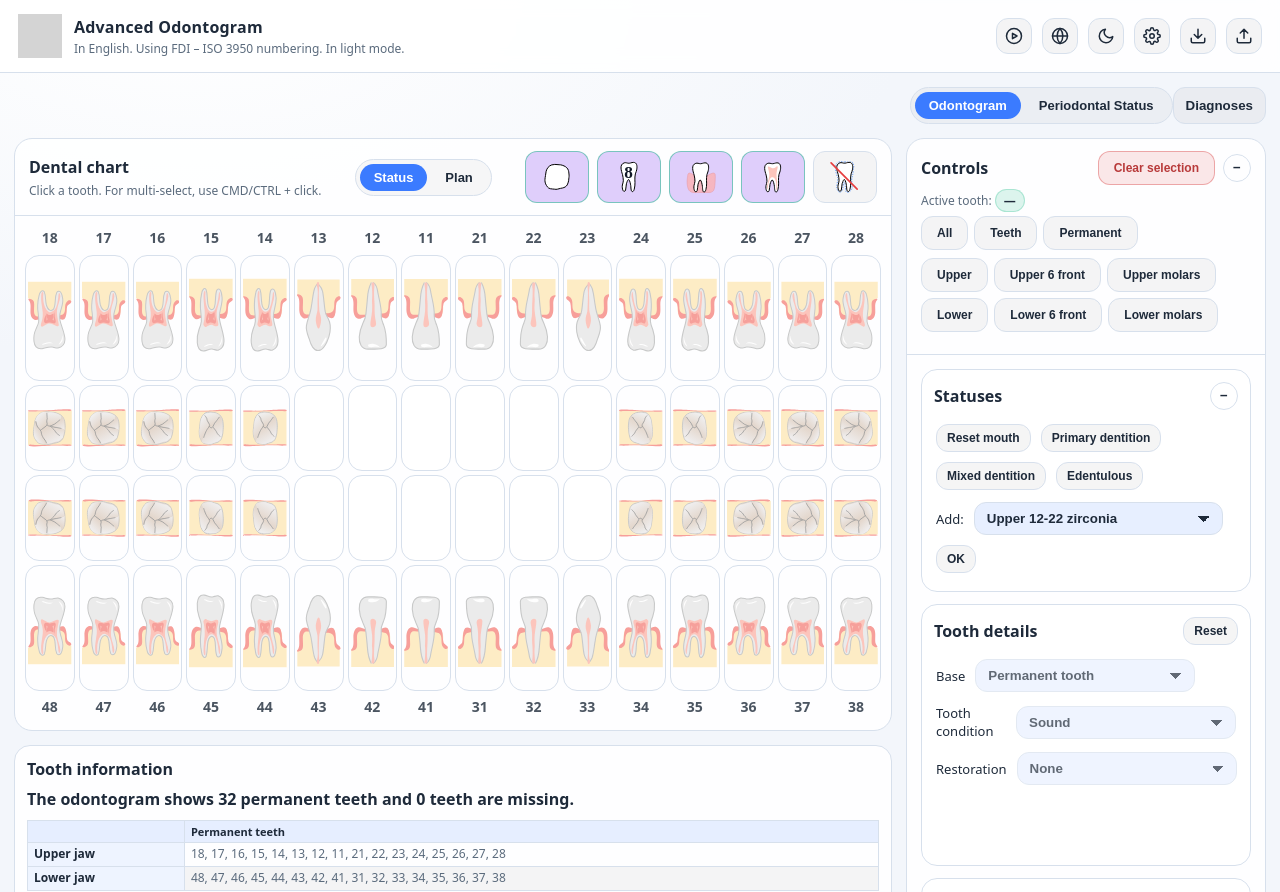
Test: Popups interaction characterization › A. Zoom Popover actions › Note button opens Note Editor when notes are enabled
Press the mouse on the option named "11": point(426, 318) top-left (401, 255), bottom-right (451, 381)
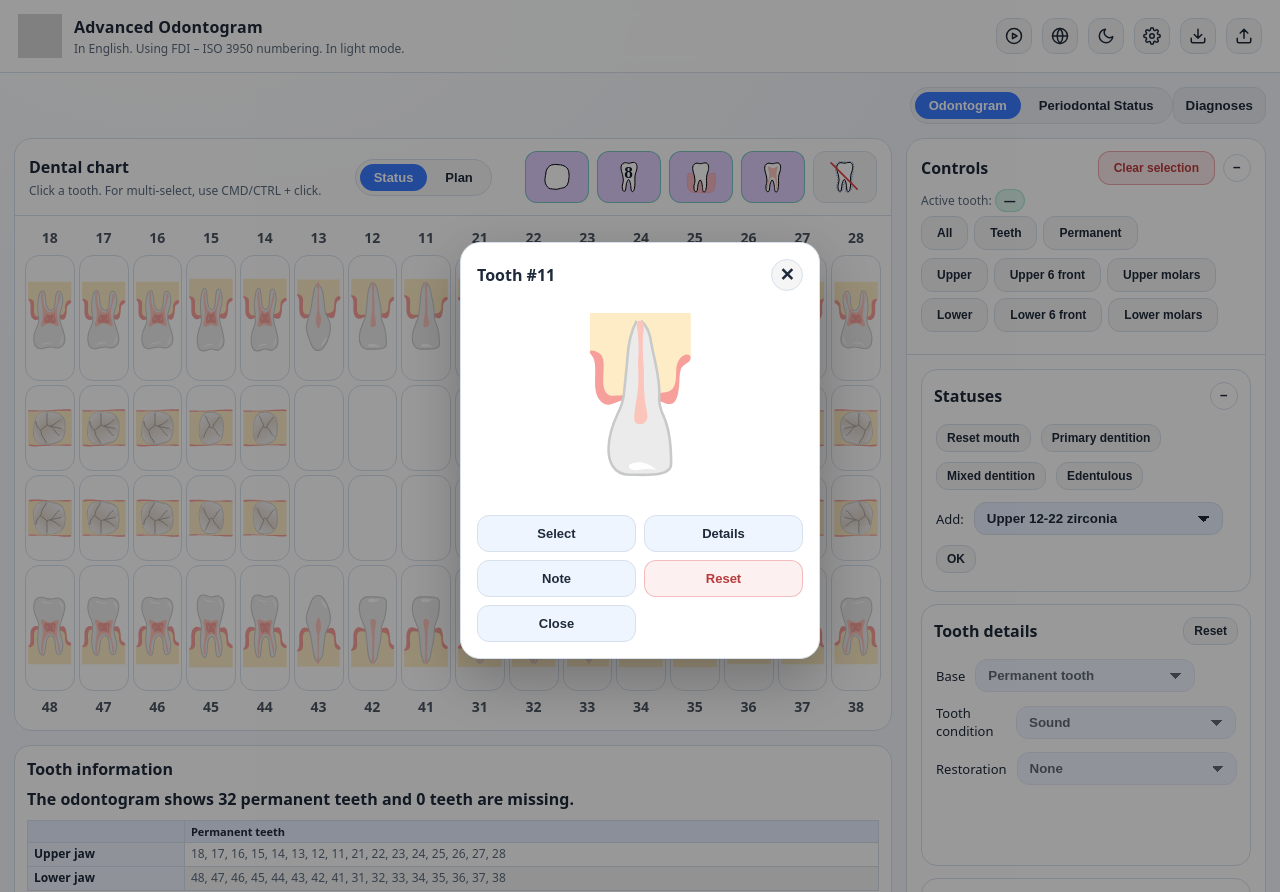
expect the button with class "odon-zoom-btn" showing "Note" is shown: met
Click the button with class "odon-zoom-btn" showing "Note": point(556, 578) top-left (477, 560), bottom-right (636, 596)
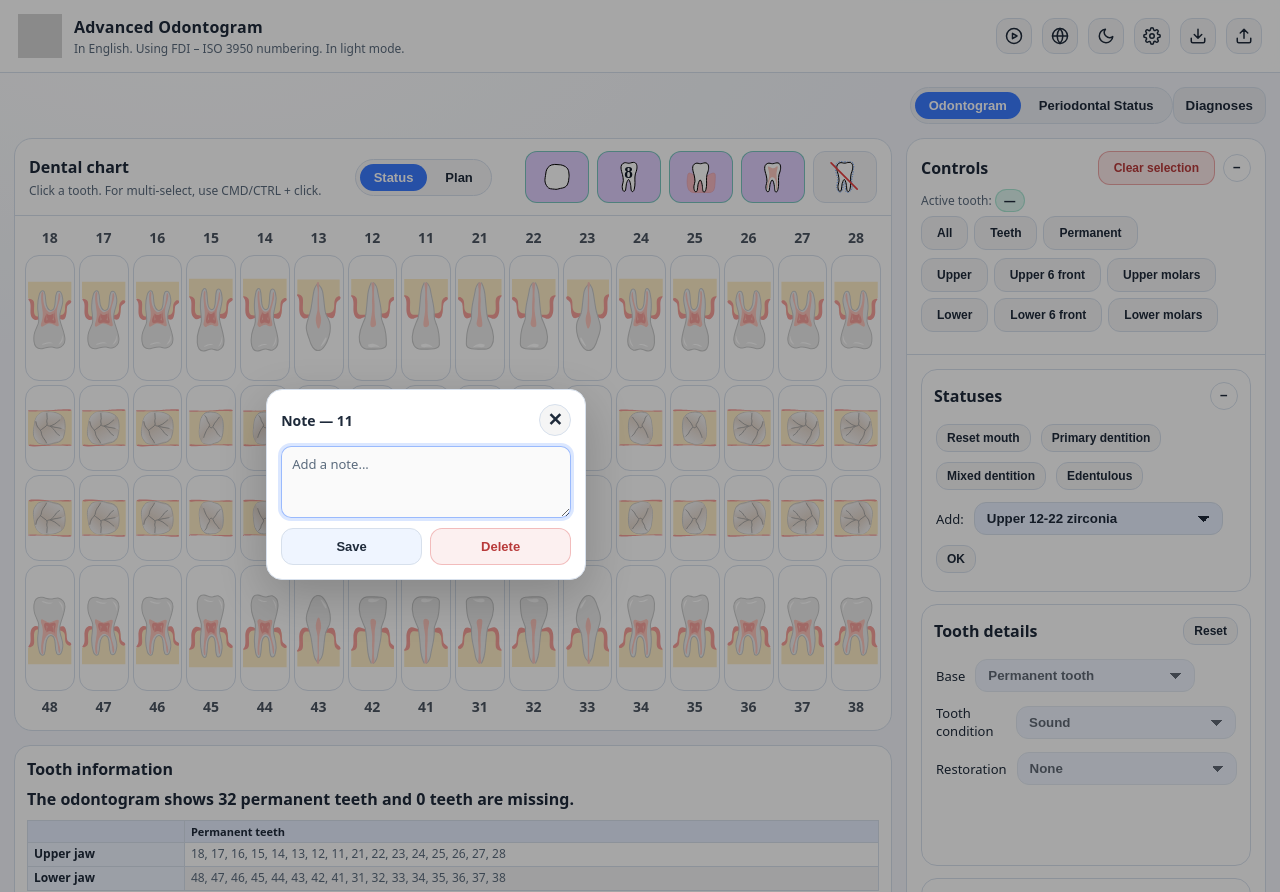
expect the element with class "odon-zoom-popover" is gone: met
expect the element with class "odon-note-popover" is shown: met, box top-left (266, 389), bottom-right (586, 580)
